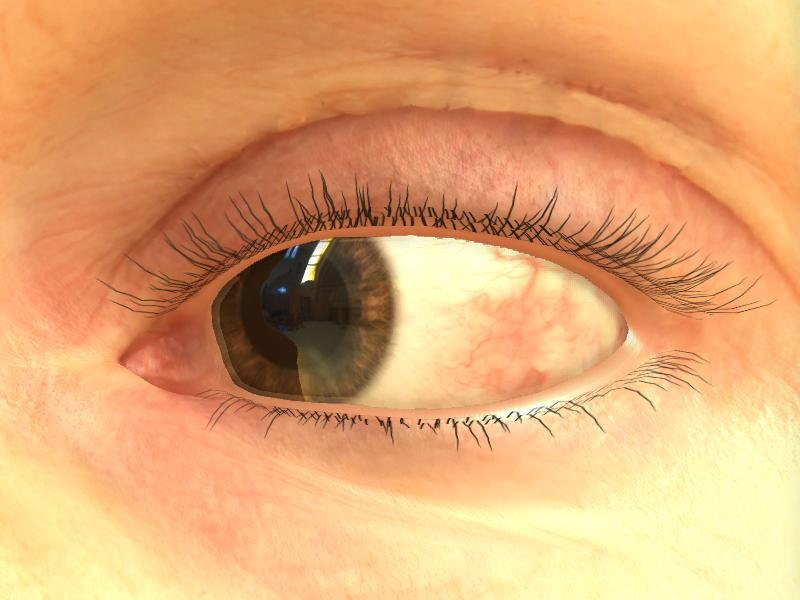eye: (215, 234, 396, 412)
